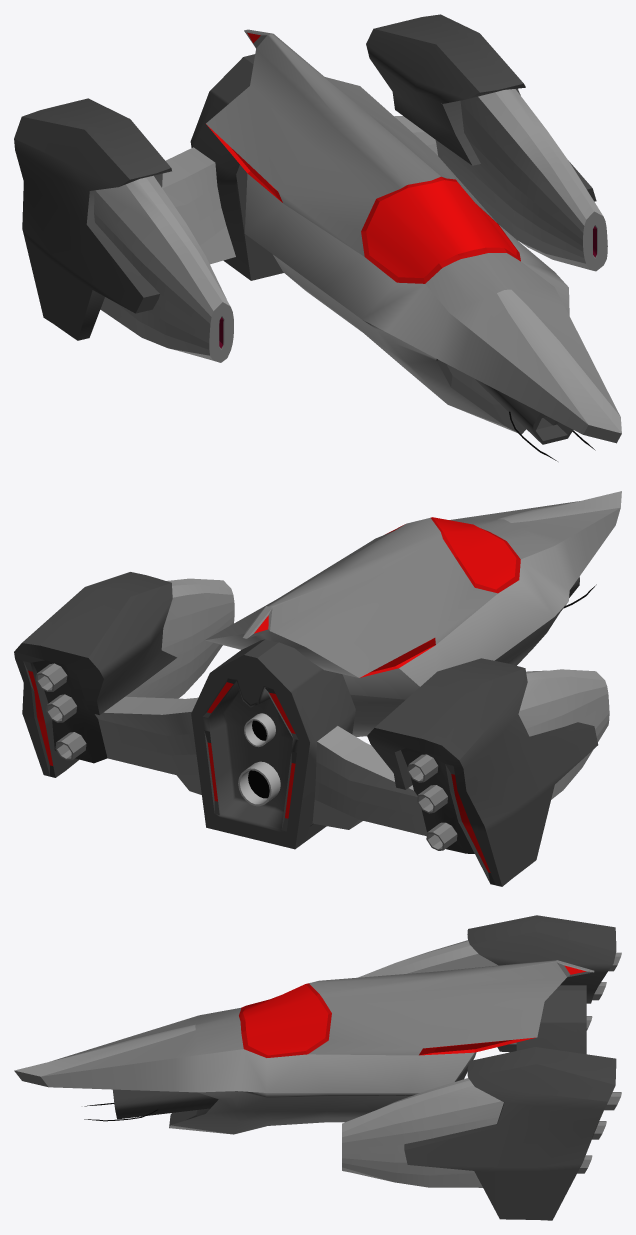
The model's file is nave_enemiga.fbx.
The picture shows the model from 3 angles, top to bottom: view 1: azimuth 30°, elevation 25°; view 2: azimuth 150°, elevation 25°; view 3: azimuth 270°, elevation 25°; orthographic projection. The views are drawn at different scales.
Visible parts, largest first — view 1: polySurface3, polySurface8, pCube6; view 2: polySurface3, polySurface8; view 3: polySurface8, polySurface3, pCube6.
Boxes of the visible parts, bbox=[...] form: polySurface3: bbox=[14, 14, 607, 362]; polySurface8: bbox=[206, 29, 621, 443]; pCube6: bbox=[475, 379, 595, 461]; polySurface3: bbox=[14, 572, 609, 886]; polySurface8: bbox=[205, 491, 621, 736]; polySurface8: bbox=[14, 960, 594, 1134]; polySurface3: bbox=[342, 915, 621, 1220]; pCube6: bbox=[84, 1089, 218, 1121].
Bounding box in the file's own units: 7.07 × 3.3 × 10.46.
